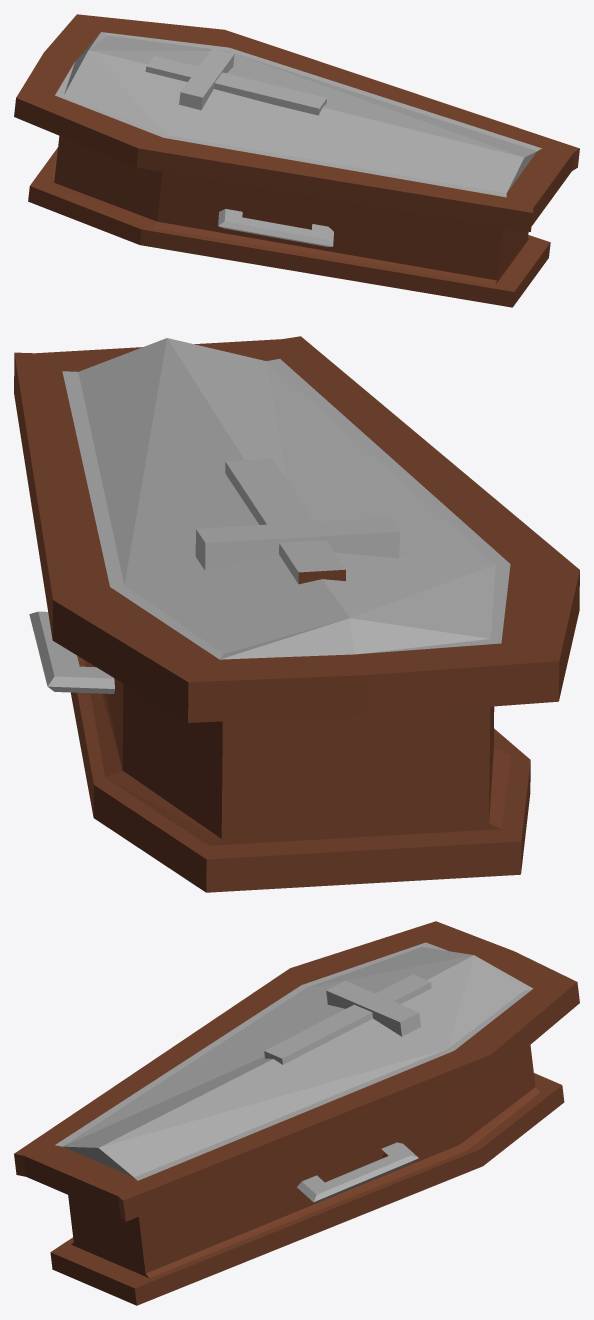
File: _abut.fbx
3 views of the same model, one above another, from view 1: azimuth 30°, elevation 25°; view 2: azimuth 150°, elevation 25°; view 3: azimuth 270°, elevation 25° (orthographic). The views are drawn at different scales.
Visible parts, largest first — view 1: tabut; view 2: tabut; view 3: tabut.
Boxes of the visible parts, x1,y1,x2,y2 form: tabut: (14,14,579,307); tabut: (14,336,579,892); tabut: (14,921,579,1305).
Size of the model in its own units: 20.41 by 8 by 21.59.
